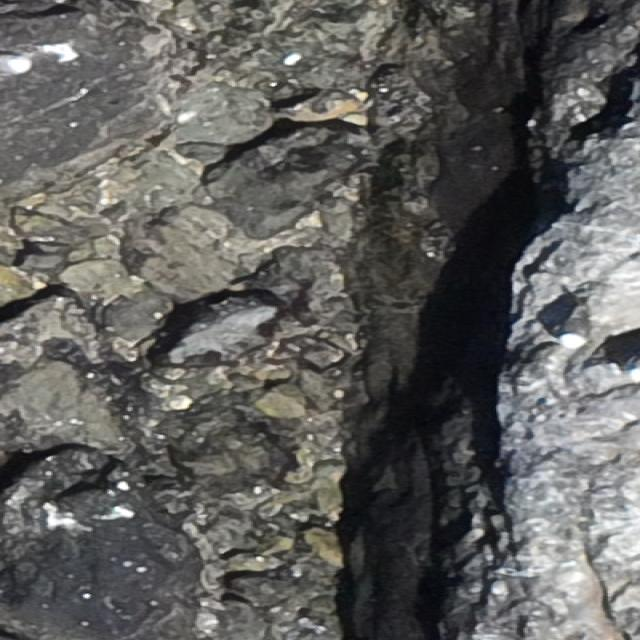umineko: (560, 303, 599, 350), (0, 56, 36, 76)
